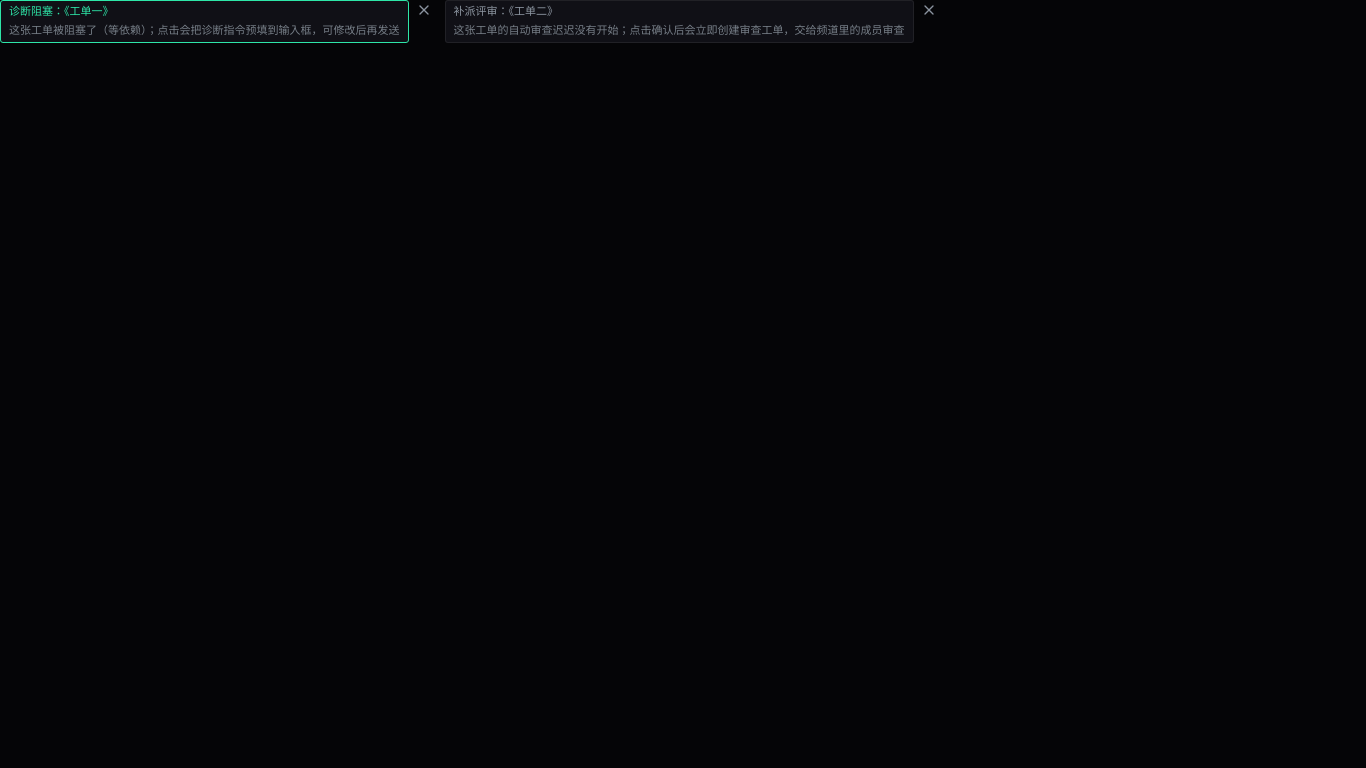
Test: ChannelGuidance — P3-b 引导片区 › 动作片 → 一次确认弹窗 → 确定性接口 → 关窗 + refreshSuggestions 回扫
The width and height of the screenshot is (1366, 768).
Click the button "补派评审：《工单二》": (679, 21) [444,0,914,43]
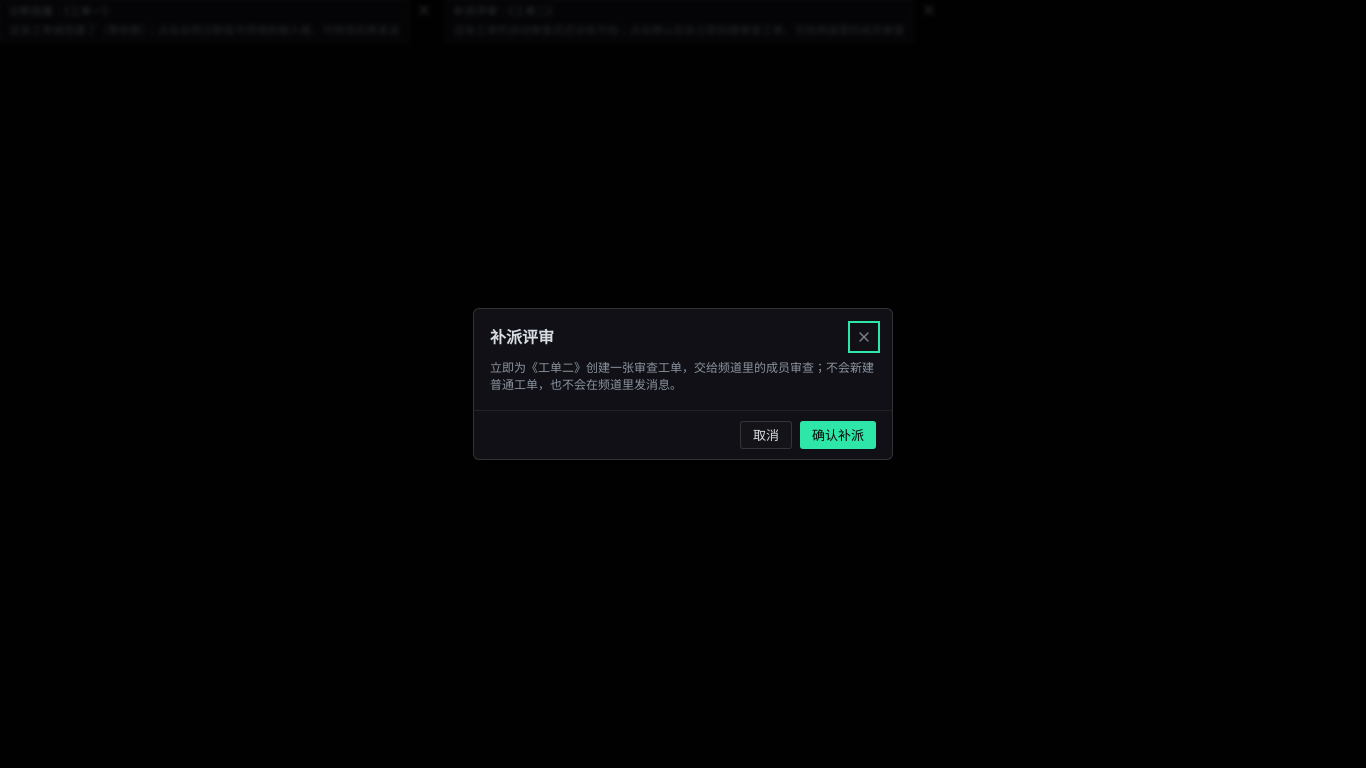
Check: the dialog shows "补派评审", box [490,326,554,348]
Check: the dialog shows "工单二", box [490,359,874,393]
Click the button "确认补派": (838, 435) [800,420,876,449]
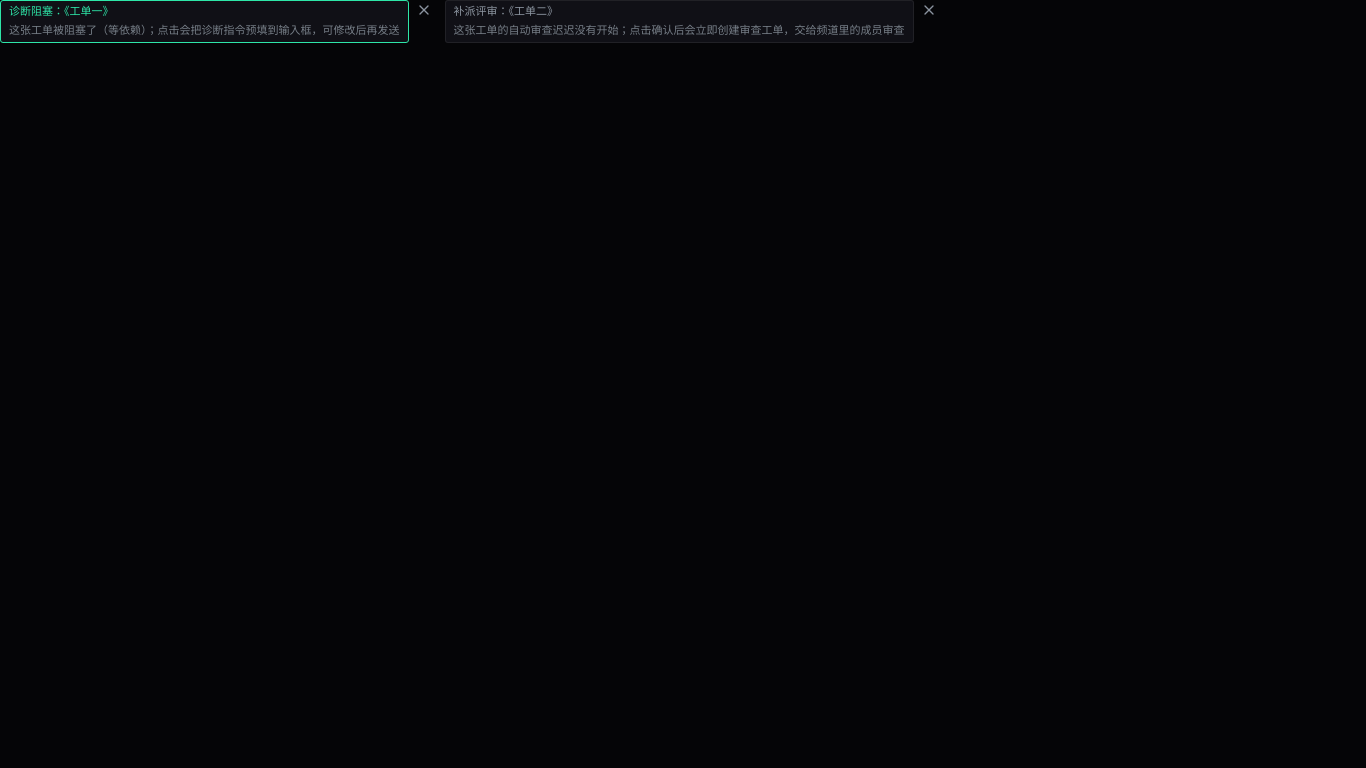
Check: the dialog is gone
